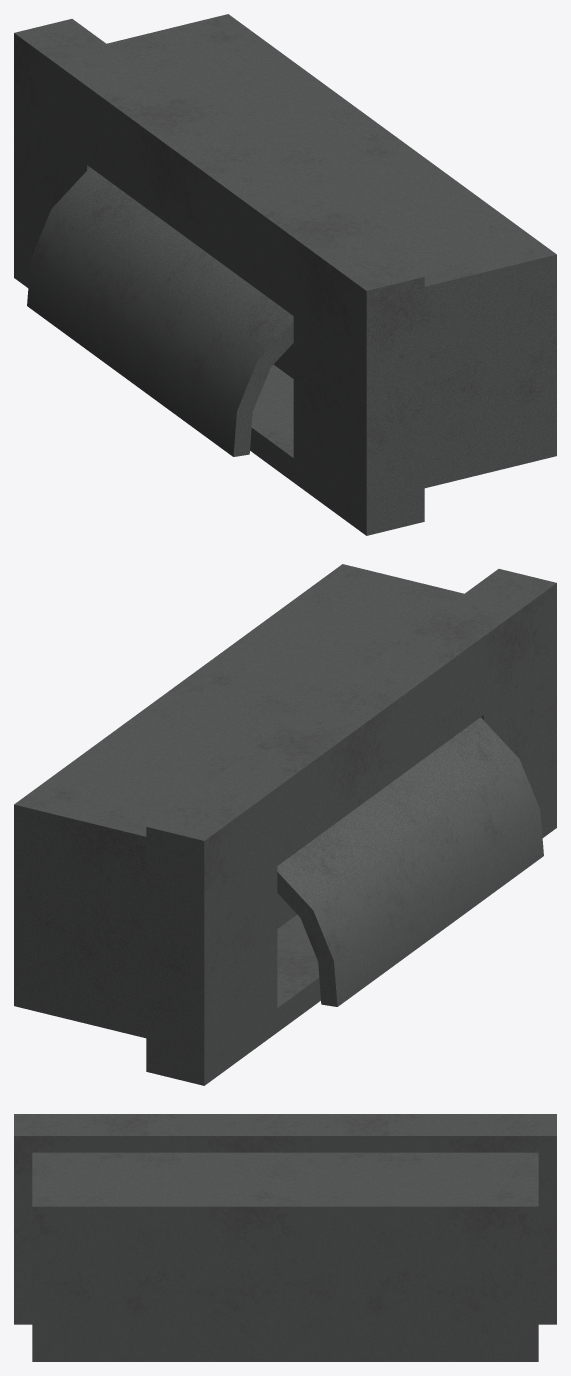
The model's file is Teller.FBX.
3 renders of one model, top to bottom at view 1: azimuth 30°, elevation 25°; view 2: azimuth 150°, elevation 25°; view 3: azimuth 270°, elevation 25°, orthographic. The views are drawn at different scales.
Visible parts, largest first — view 1: Teller; view 2: Teller; view 3: Teller.
Part boxes in pixels (x1,y1,x2,y2): Teller: [14, 14, 556, 535]; Teller: [14, 564, 556, 1085]; Teller: [14, 1114, 556, 1361].
Bounding box in the file's own units: 24.58 × 21.92 × 57.18.
